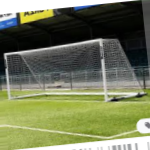goals: (2, 38, 145, 103)
